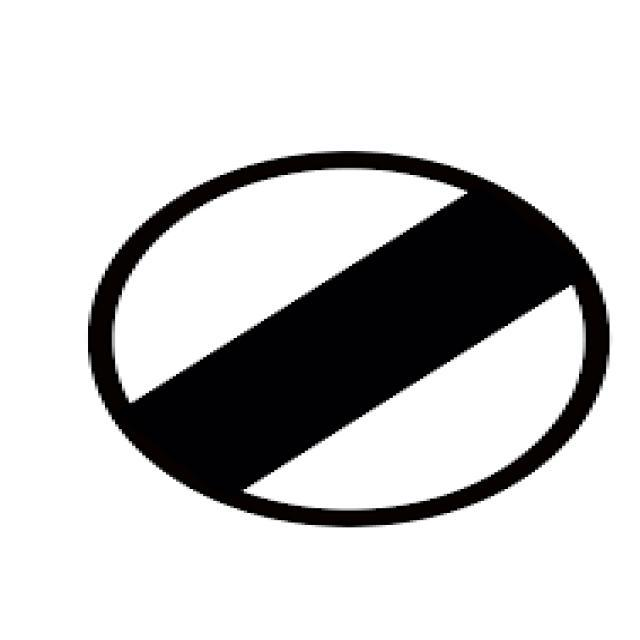restriction ends: (80, 148, 616, 536)
